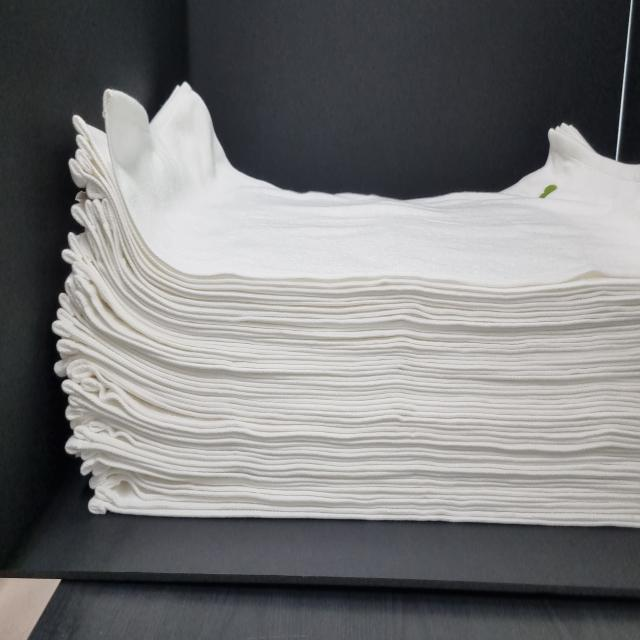50_towel_counts: (29, 59, 640, 548)
